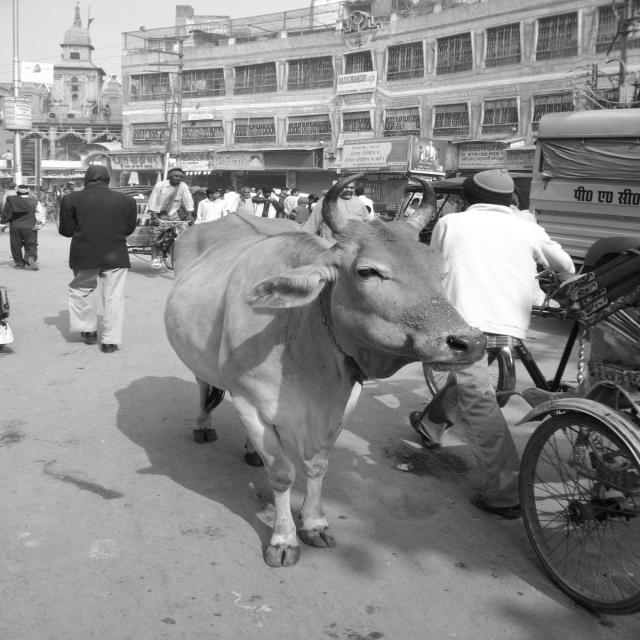cow: (165, 174, 485, 566)
